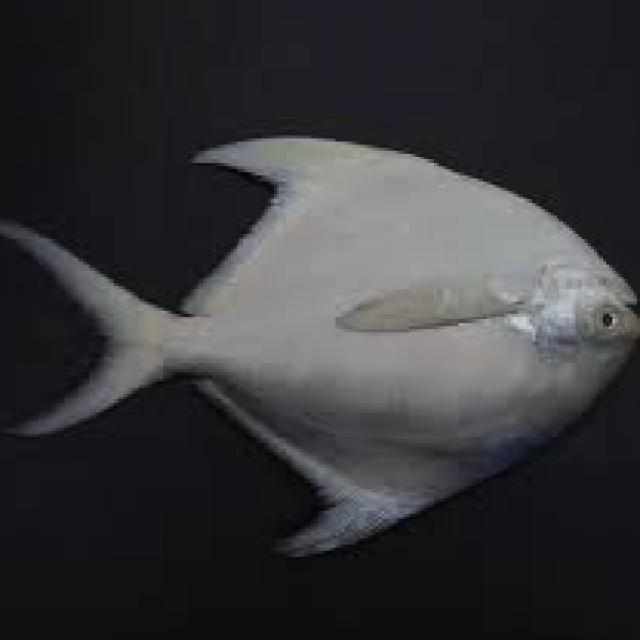pomfred: (0, 139, 640, 558)
